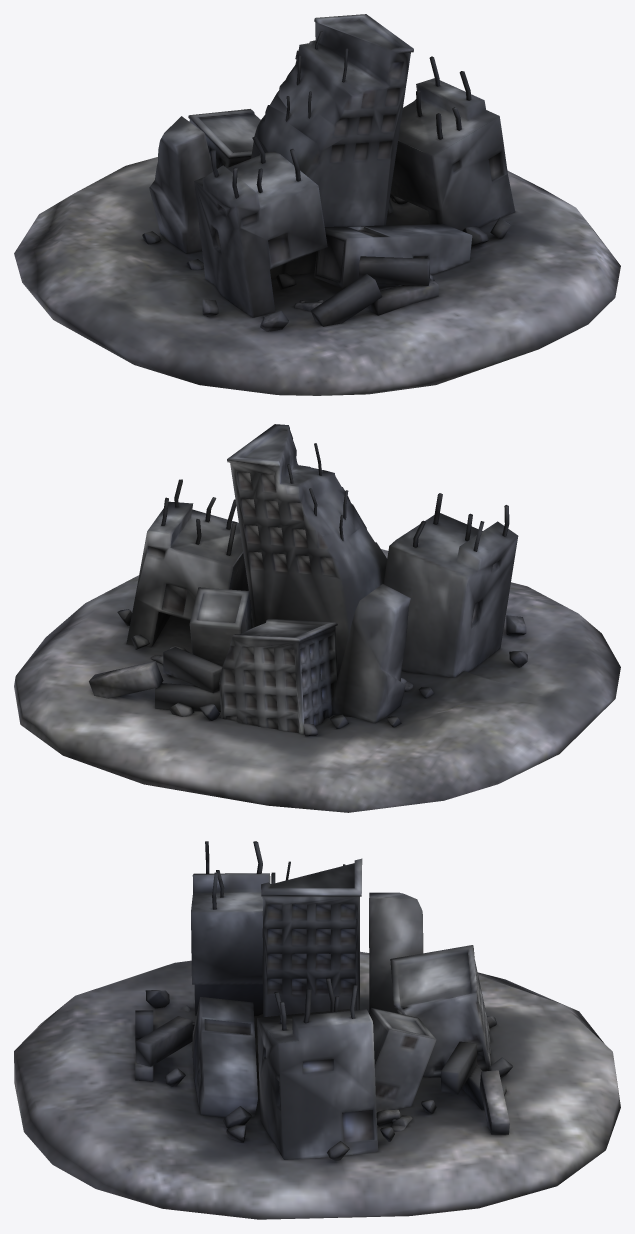
Rendered from Ruins.glb.
3 views of the same model, one above another, from view 1: azimuth 30°, elevation 25°; view 2: azimuth 150°, elevation 25°; view 3: azimuth 270°, elevation 25° (orthographic). The views are drawn at different scales.
Parts seen in each view (by area): view 1: ground.001, Cube.001; view 2: ground.001, Cube.001; view 3: ground.001, Cube.001.
Boxes of the visible parts, box(x1,y1,x2,y2) form: ground.001: box(14, 157, 620, 395); Cube.001: box(149, 14, 515, 317); ground.001: box(14, 549, 620, 812); Cube.001: box(126, 424, 518, 734); ground.001: box(14, 951, 620, 1219); Cube.001: box(191, 841, 491, 1159).
Bounding box in the file's own units: 4.28 × 1.92 × 4.27.
2 materials, 2 textured.
